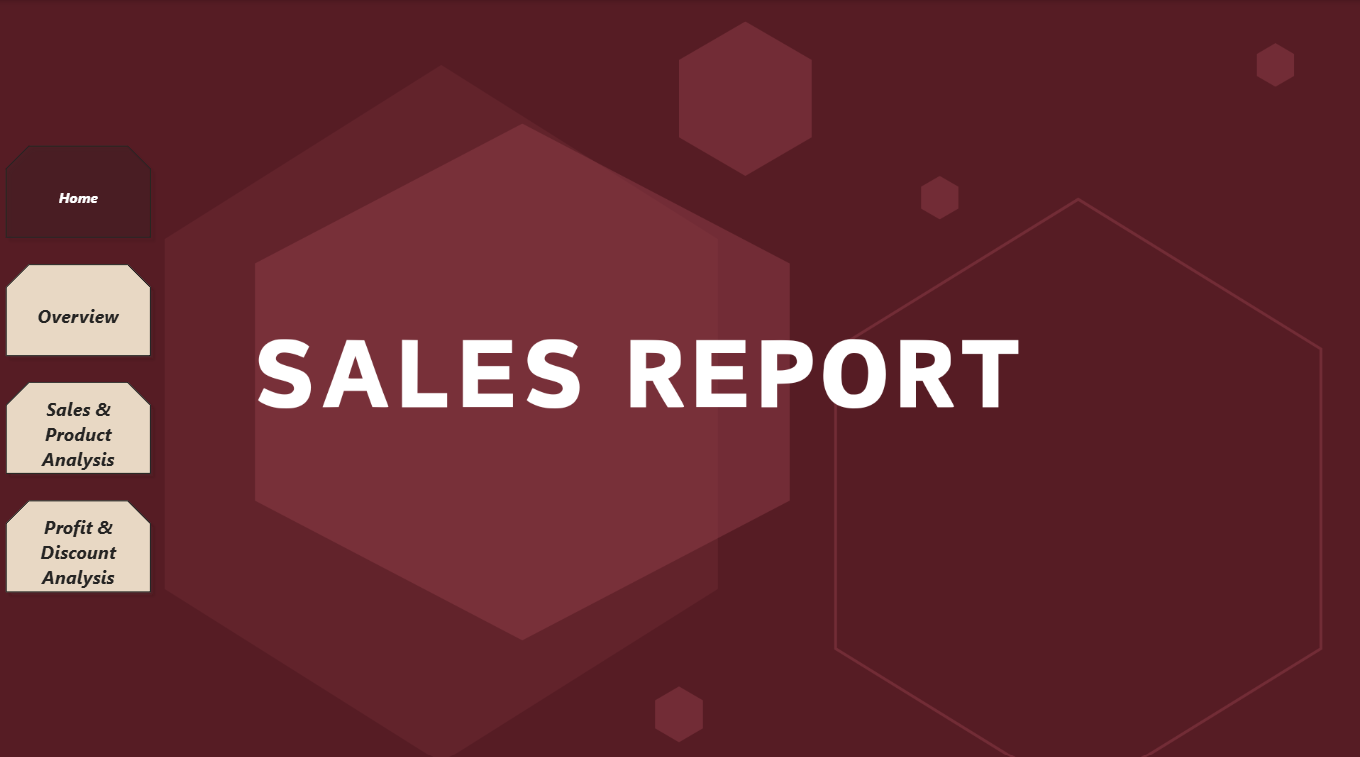

This screenshot's page, from the dashboard's own definition file:
{"tool":"powerbi","page":{"name":"Home","canvas":[1280,720],"ordinal":0},"visuals":[{"type":"pageNavigator","box":[0,129.4,151.8,436.2],"z":0}]}

Visuals, with their boxes in screenshot pixels (x1, y1, x2, y2), scaled from the page's 1280x720 canvas onto the 1360x757 screenshot:
pageNavigator: [left=0, top=136, right=161, bottom=595]
